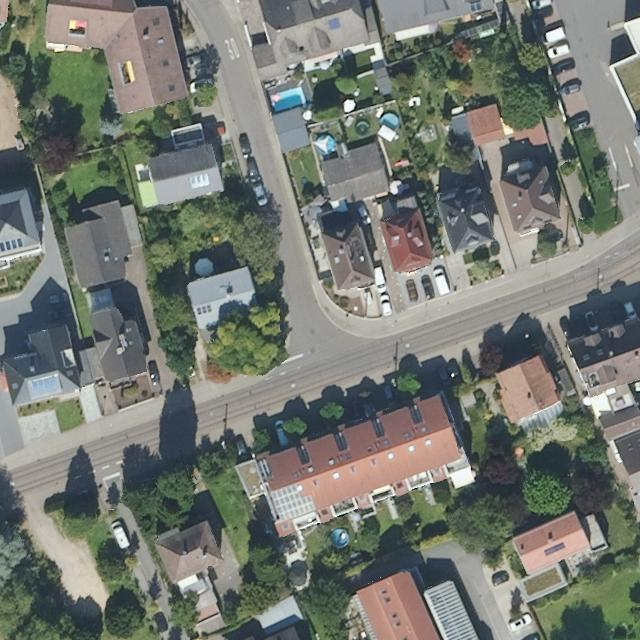PV: (269, 484, 318, 524), (1, 235, 24, 254), (194, 304, 214, 317)
